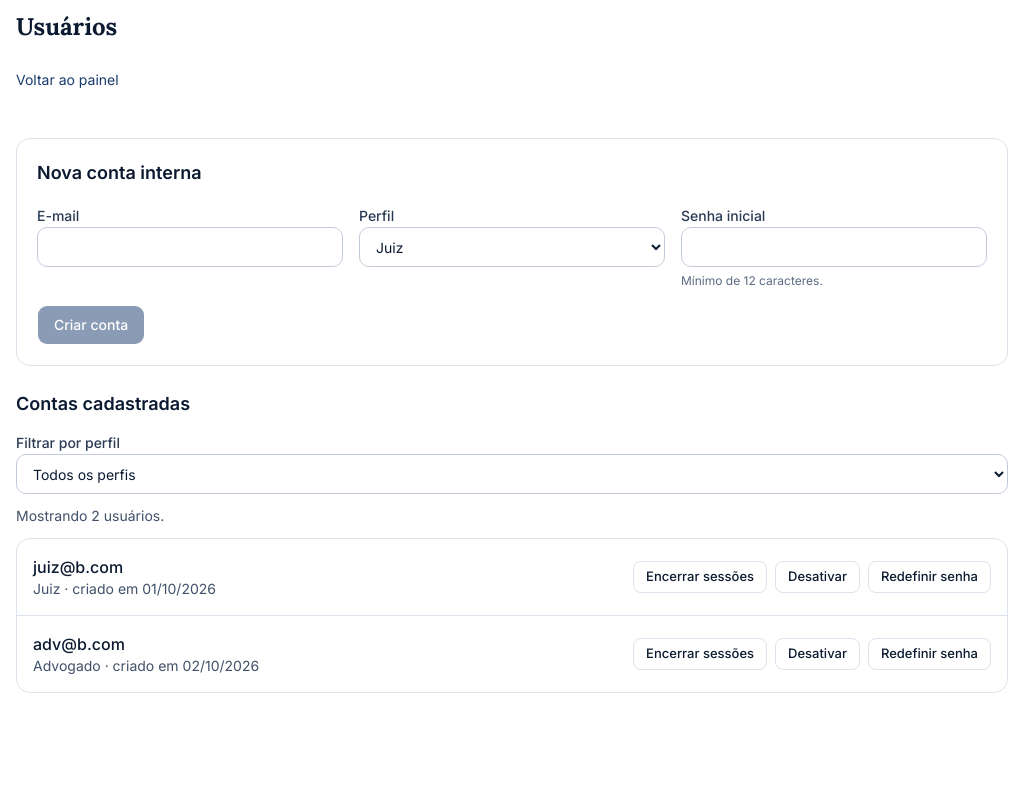
Test case: UsersAdmin create and revoke › shows field errors from a 422 on create
Expected: the text "juiz@b.com" is shown, x1=33 y1=557 x2=123 y2=577
Type "ruim@b.com" into the field labelled "E-mail". click: coordinates (190, 247)
box: x1=37 y1=227 x2=343 y2=267
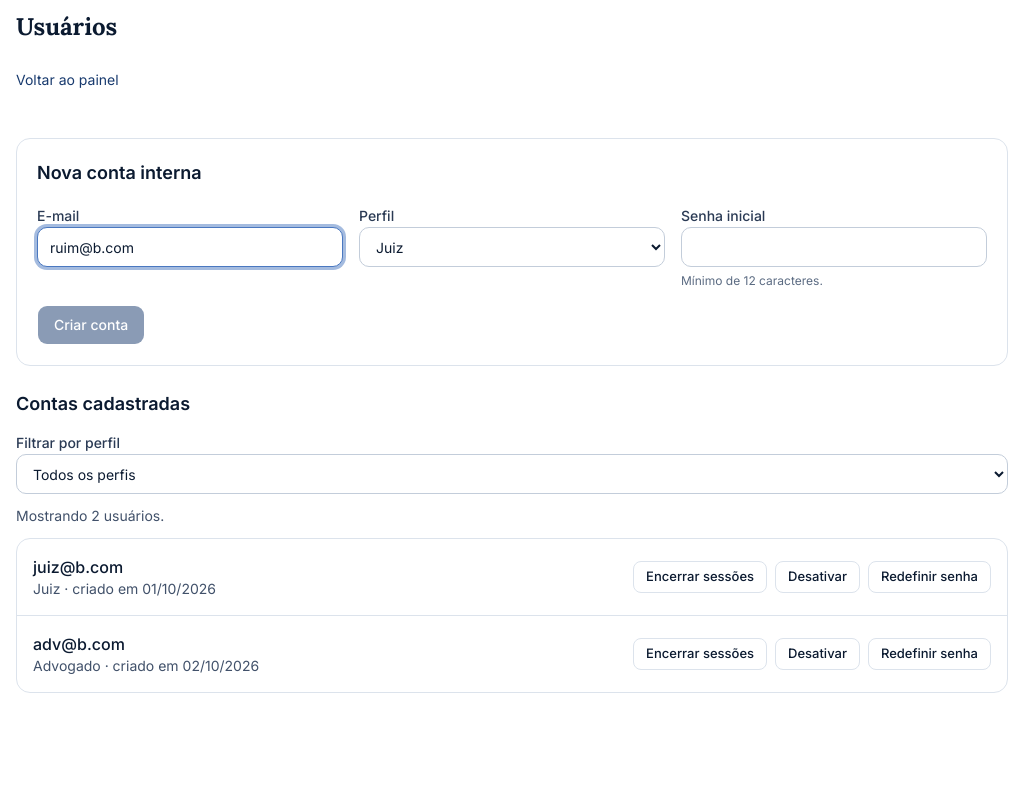
Type "senha-forte-123" into the password field labelled "Senha inicial". click: coordinates (834, 247)
box: x1=681 y1=227 x2=987 y2=267
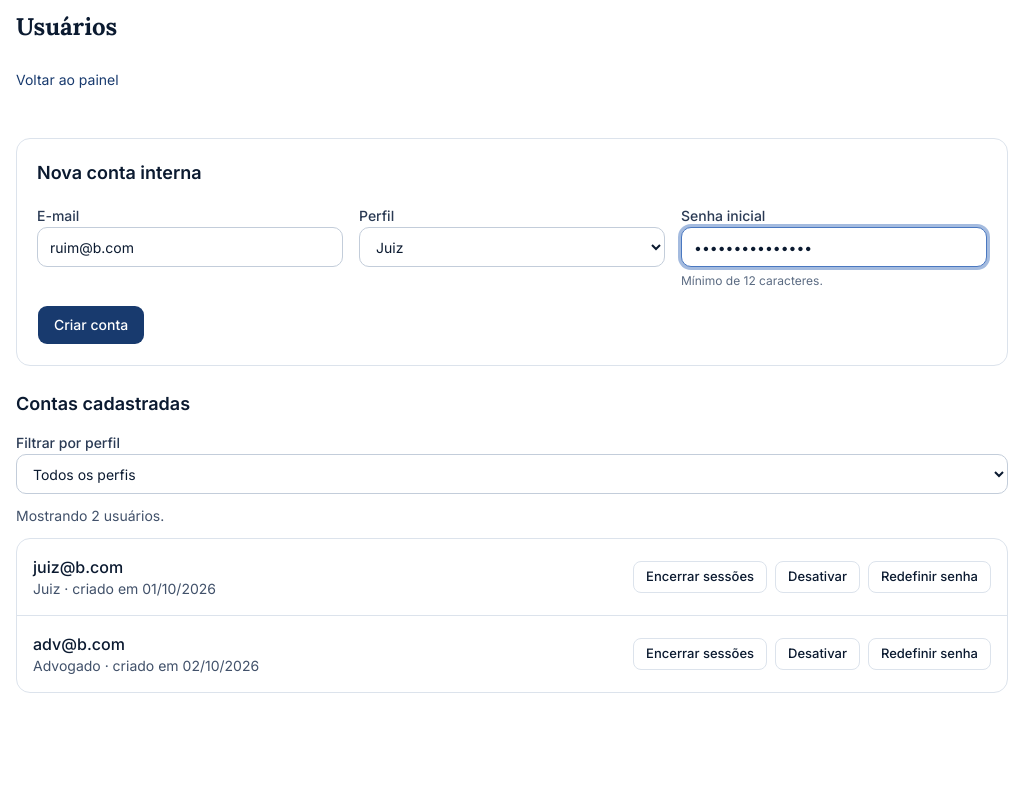
Click the button "Criar conta". click: coordinates (91, 325)
box: x1=37 y1=305 x2=145 y2=345
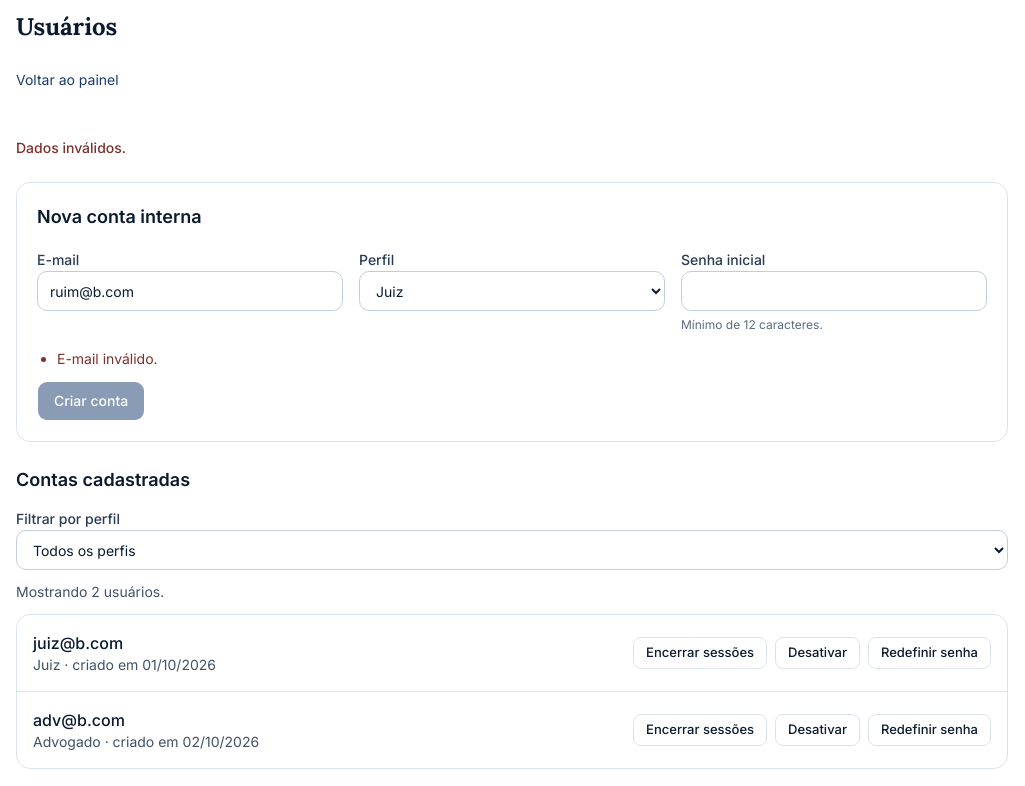
Result: the list item "E-mail inválido." is shown at x1=57 y1=350 x2=158 y2=367
Result: the password field labelled "Senha inicial" is empty at x1=681 y1=271 x2=987 y2=311
